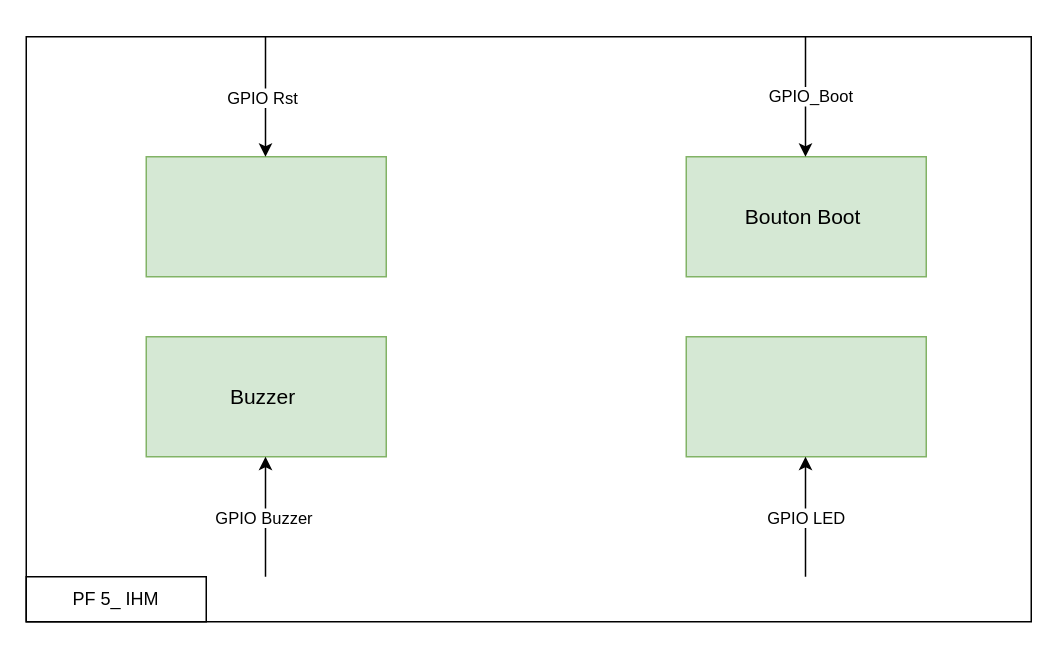
Image size: 1058x648. Some labels were removed from this diagram. The shapes that lost their labels are listed below. From the top down, each one's centre as x and y in pixels, then its label:
(x=265, y=216): Bouton Reset
(x=805, y=396): LED
